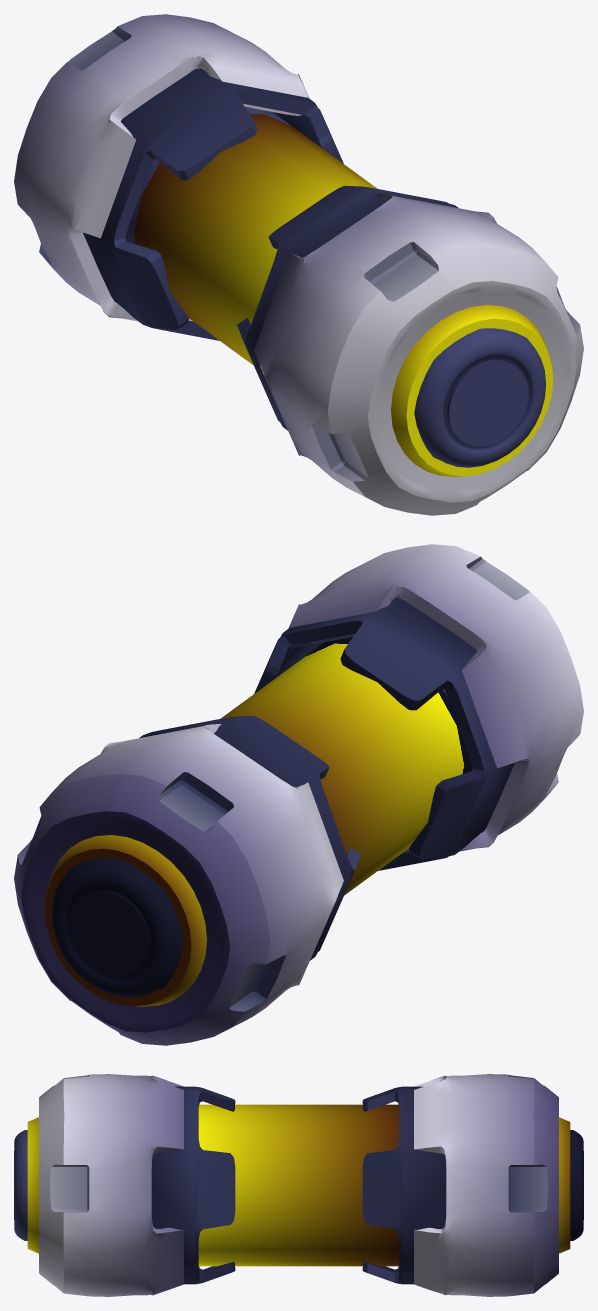
Rendered from CylinderCrate03.fbx.
3 views of the same model, one above another, from view 1: azimuth 30°, elevation 25°; view 2: azimuth 150°, elevation 25°; view 3: azimuth 270°, elevation 25° (orthographic). The views are drawn at different scales.
Parts seen in each view (by area): view 1: C01_SUBD; view 2: C01_SUBD; view 3: C01_SUBD.
Part boxes in pixels (<box>): C01_SUBD: <box>14,14,583,515</box>; C01_SUBD: <box>14,544,583,1045</box>; C01_SUBD: <box>14,1074,583,1296</box>.
Bounding box in the file's own units: 770 × 770 × 1900.
1 material, 1 textured.
